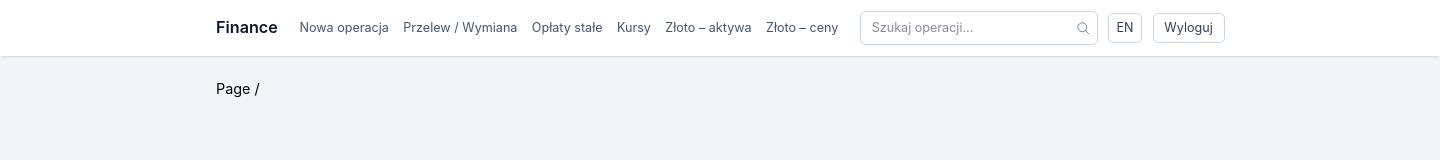
Layout › opens the results of the phrase typed in the header, the phrase staying in the field
This screenshot has width=1440, height=160.
Type "  rent " into the field labelled "Szukaj" at (979, 28), box [860,11,1098,45]
Then press Enter
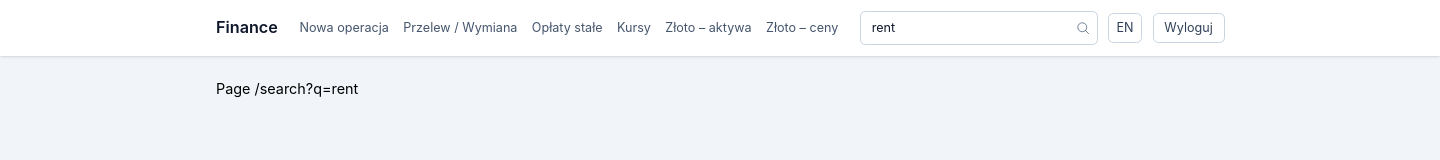
Now the text "Page /search?q=rent" is shown, box [216,80,358,96]
Now the field named "Szukaj" holds "rent", box [860,11,1098,45]
